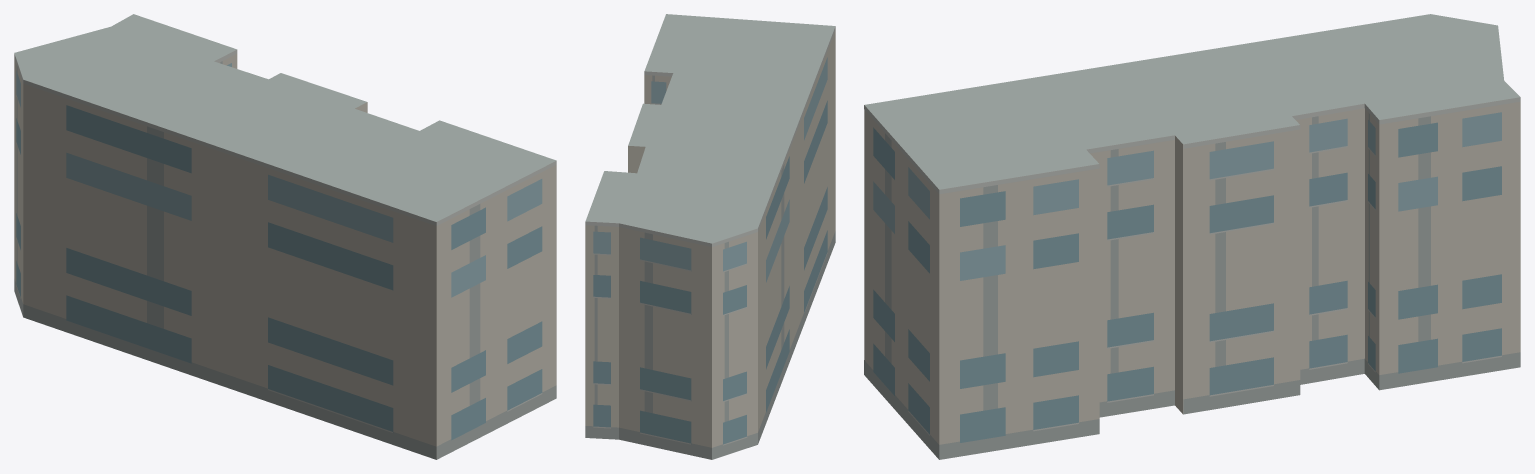
File: survey-upis-32860367.glb
3 views of the same model, side by side, from view 1: azimuth 30°, elevation 25°; view 2: azimuth 150°, elevation 25°; view 3: azimuth 270°, elevation 25° (orthographic). The views are drawn at different scales.
Parts seen in each view (by area): view 1: survey-upis-32860367.tmp; view 2: survey-upis-32860367.tmp; view 3: survey-upis-32860367.tmp.
Part boxes in pixels (x1,y1,x2,y2): survey-upis-32860367.tmp: (14,14,556,459); survey-upis-32860367.tmp: (585,14,835,459); survey-upis-32860367.tmp: (864,14,1520,459).
Bounding box in the file's own units: 20.25 × 14.5 × 31.95.
